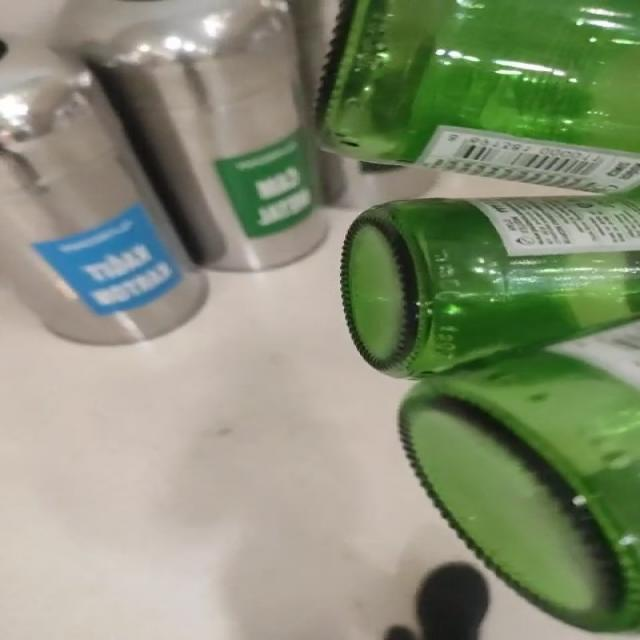Glass: (319, 0, 640, 633)
